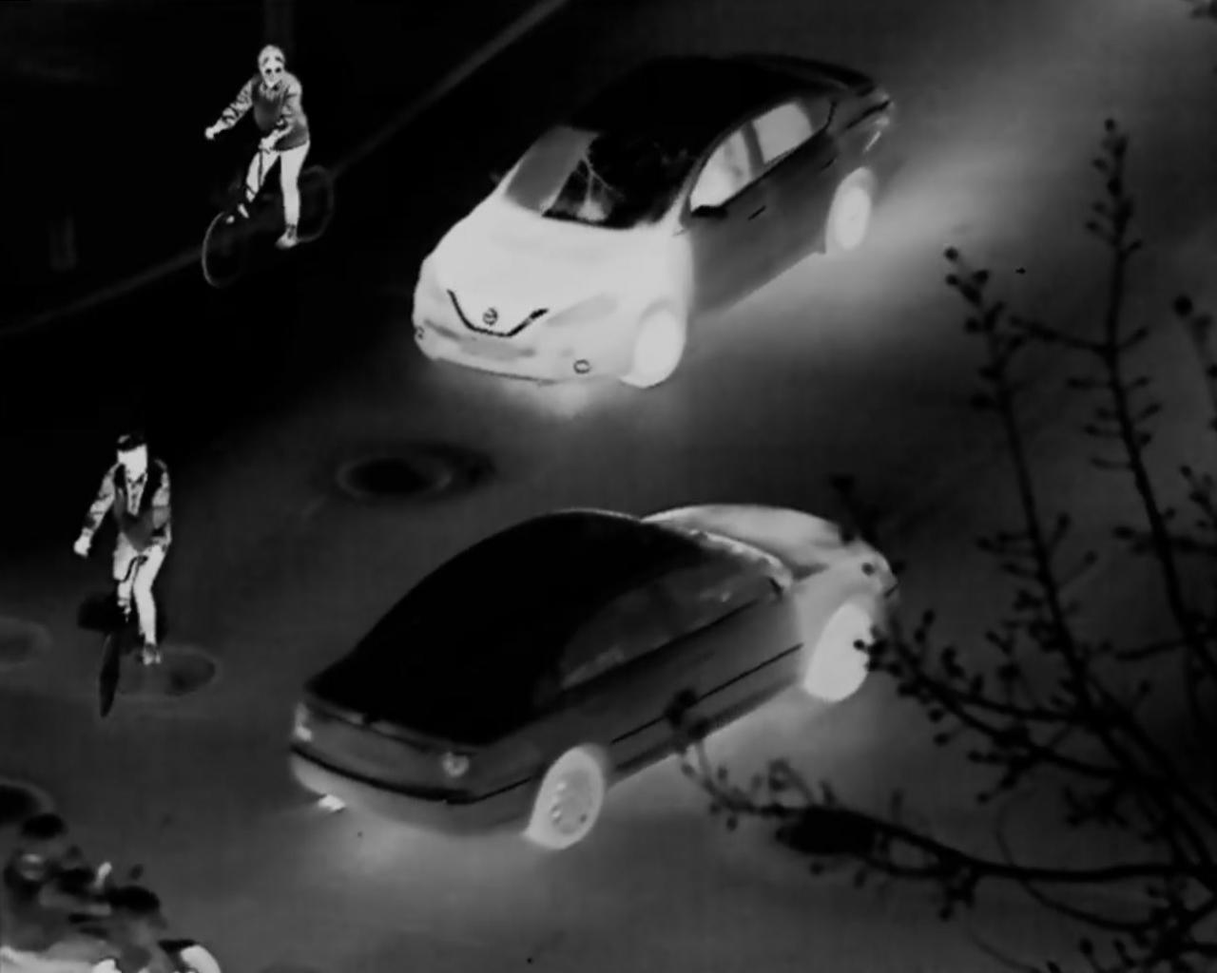person: (202, 46, 319, 253), (80, 436, 177, 653)
